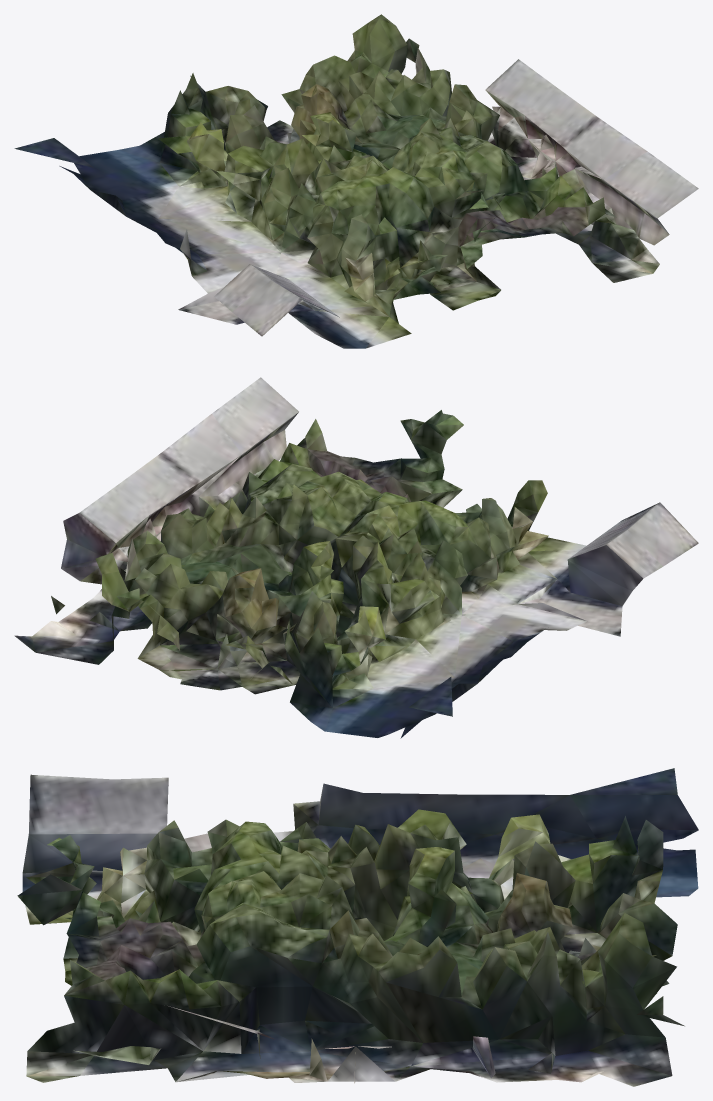
Rendered from Tile_+004_+004_L16_0.glb.
3 renders of one model, top to bottom at view 1: azimuth 30°, elevation 25°; view 2: azimuth 150°, elevation 25°; view 3: azimuth 270°, elevation 25°, orthographic. The views are drawn at different scales.
Parts seen in each view (by area): view 1: rtc; view 2: rtc; view 3: rtc.
Boxes of the visible parts, x1,y1,x2,y2 form: rtc: [14, 14, 698, 348]; rtc: [14, 377, 698, 738]; rtc: [17, 768, 698, 1086].
Bounding box in the file's own units: 60.71 × 14.3 × 60.87.
1 material, 1 textured.
